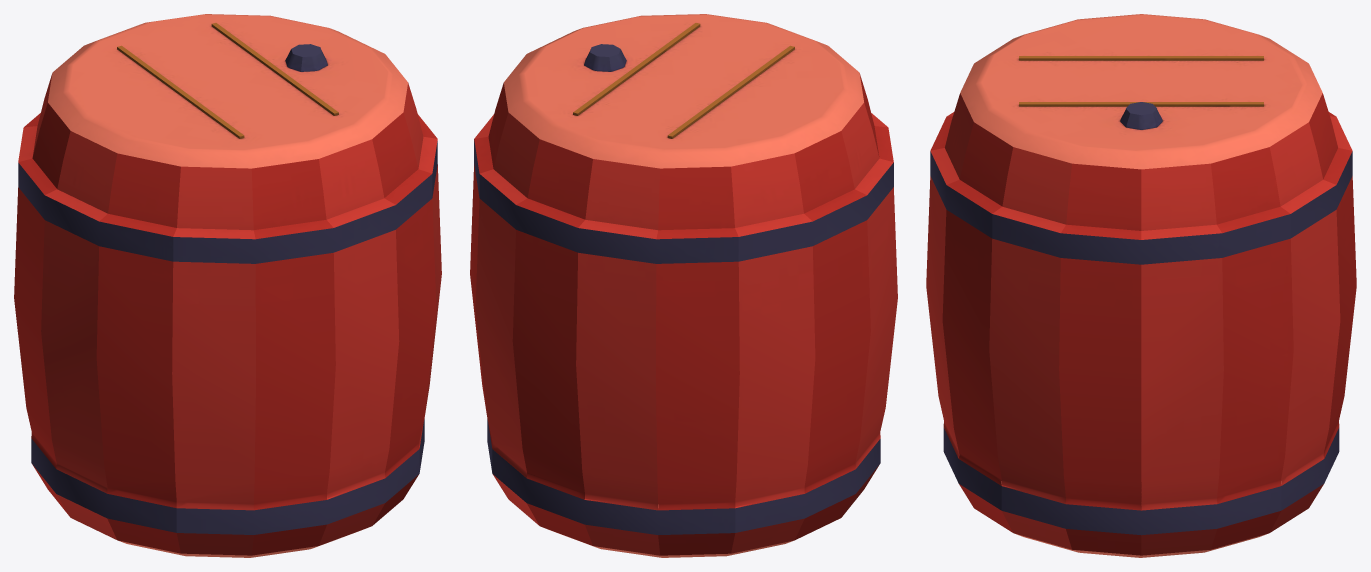
File: fici_k.glb
The picture shows the model from 3 angles, left to right: view 1: azimuth 30°, elevation 25°; view 2: azimuth 150°, elevation 25°; view 3: azimuth 270°, elevation 25°; orthographic projection.
Visible parts, largest first — view 1: fici_k; view 2: fici_k; view 3: fici_k.
Boxes of the visible parts, x1,y1,x2,y2 form: fici_k: (14, 14, 441, 557); fici_k: (470, 14, 897, 557); fici_k: (926, 14, 1356, 557).
Size of the model in its own units: 1.47 by 1.58 by 1.47.
1 material, 1 textured.
